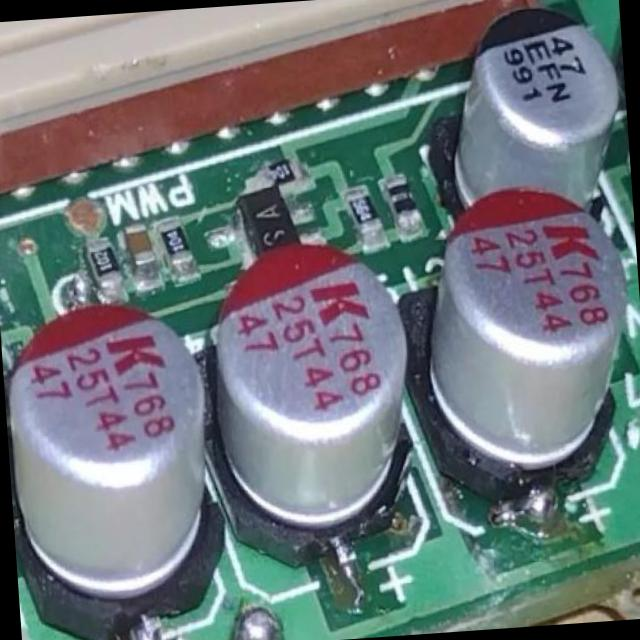capacitor: (0, 297, 226, 613), (203, 236, 420, 546), (416, 179, 628, 490), (439, 0, 631, 201), (122, 221, 156, 276)
resistor: (342, 184, 382, 238), (157, 213, 190, 266), (256, 153, 304, 187), (88, 238, 120, 286)
transistor: (201, 170, 329, 274)
